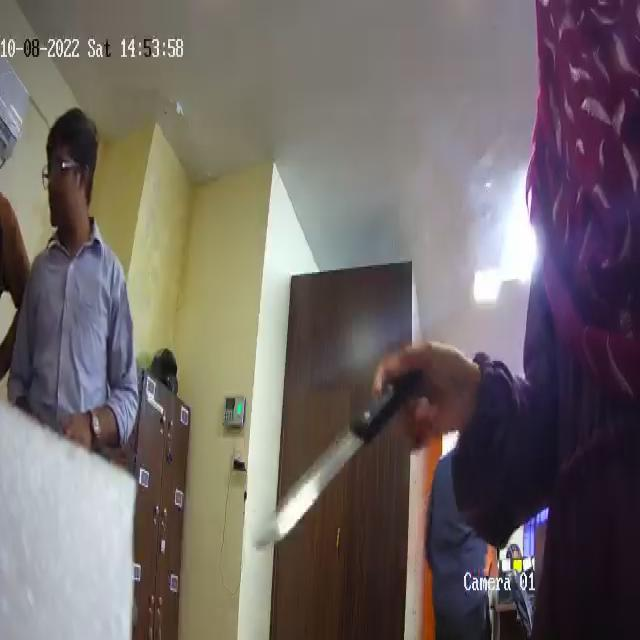Knife: (253, 350, 418, 562)
